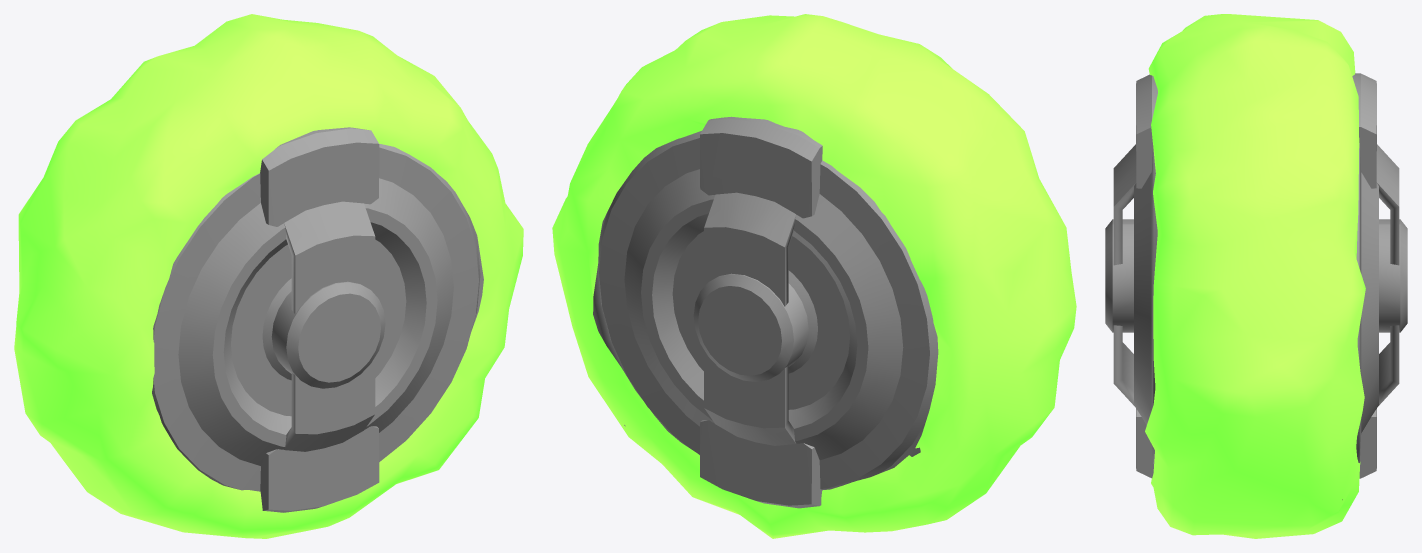
Rendered from obj_interactive_stickywheel_pose0.fbx.
3 renders of one model, left to right at view 1: azimuth 30°, elevation 25°; view 2: azimuth 150°, elevation 25°; view 3: azimuth 270°, elevation 25°, orthographic.
Parts seen in each view (by area): view 1: goop, obj_interactive_stickywheel; view 2: goop, obj_interactive_stickywheel; view 3: goop, obj_interactive_stickywheel.
Boxes of the visible parts, x1,y1,x2,y2 form: goop: (14,14,523,538); obj_interactive_stickywheel: (152,127,483,512); goop: (552,14,1076,538); obj_interactive_stickywheel: (593,116,938,508); goop: (1145,14,1365,538); obj_interactive_stickywheel: (1105,73,1407,499).
Size of the model in its own units: 5.55 by 5.39 by 2.99.
